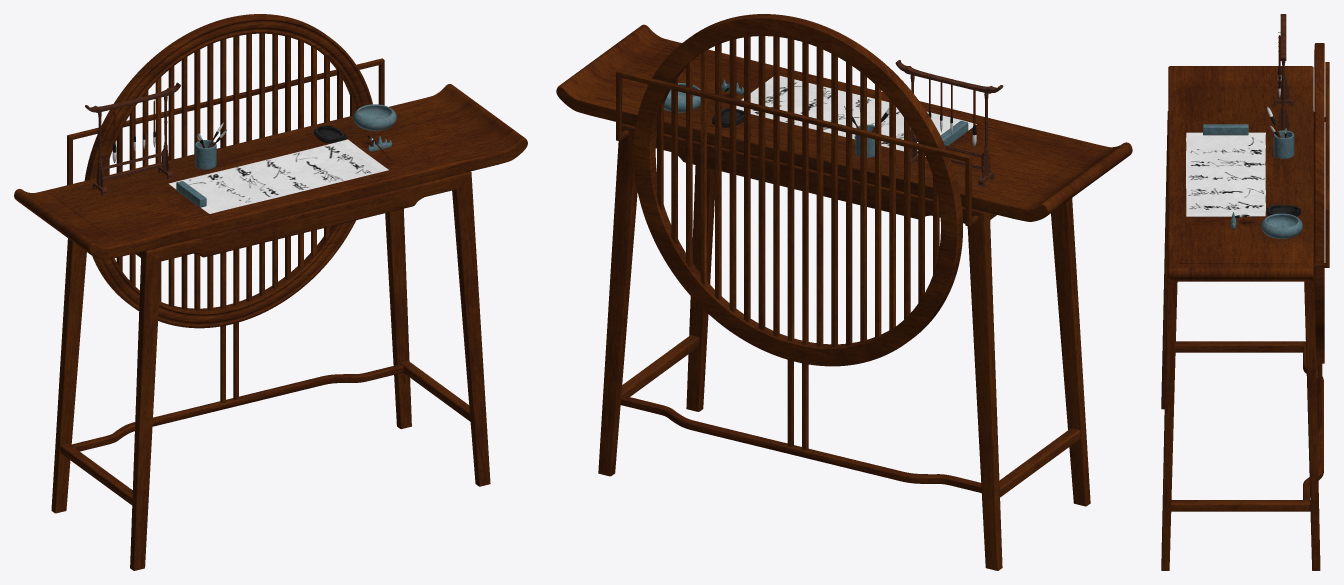
Rendered from chinese_square_table.glb.
3 views of the same model, side by side, from view 1: azimuth 30°, elevation 25°; view 2: azimuth 150°, elevation 25°; view 3: azimuth 270°, elevation 25° (orthographic). The views are drawn at different scales.
Size of the model in its own units: 171 by 167 by 59.2.
Materials: 1 (1 with a texture image).
